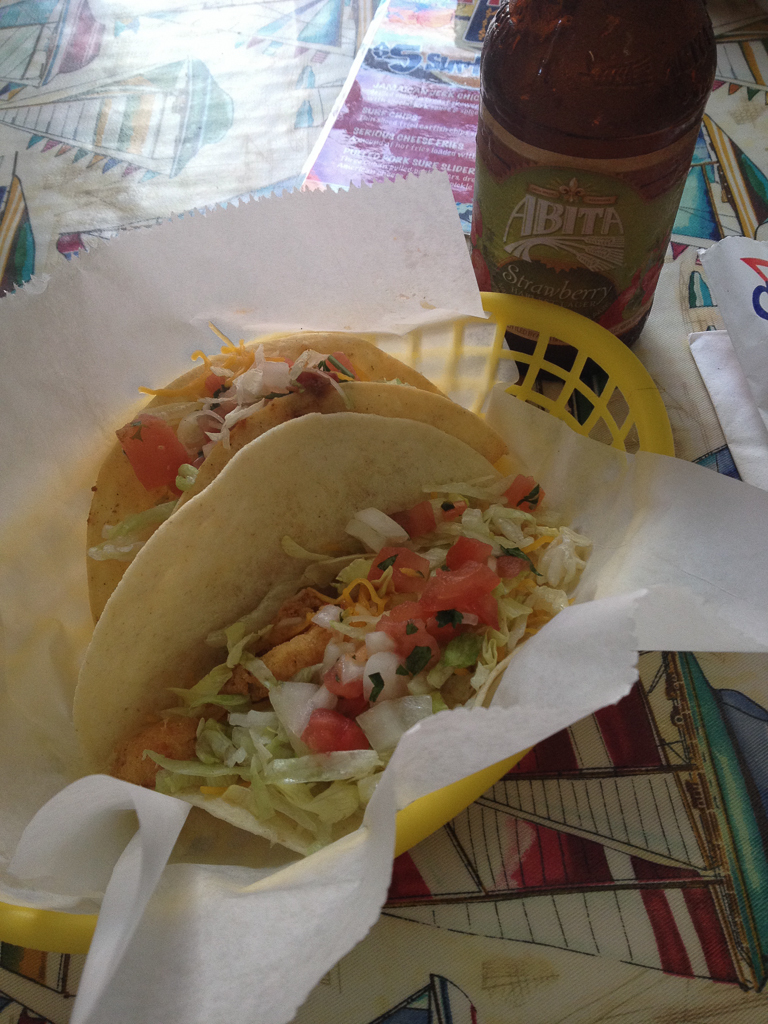taco: (75, 416, 596, 846), (83, 324, 502, 641)
